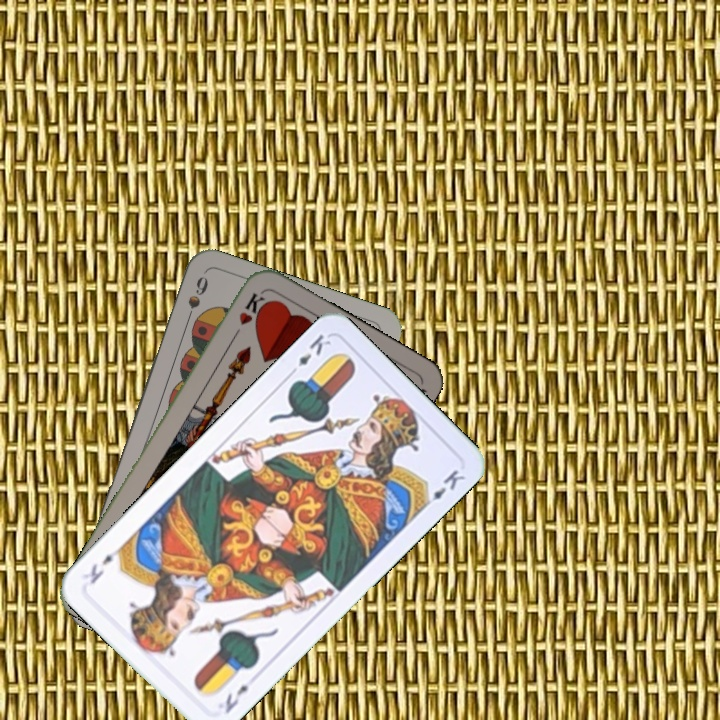EK: (284, 329, 334, 379), (220, 680, 252, 717)
HK: (227, 288, 268, 343)
S9: (181, 272, 211, 329)
